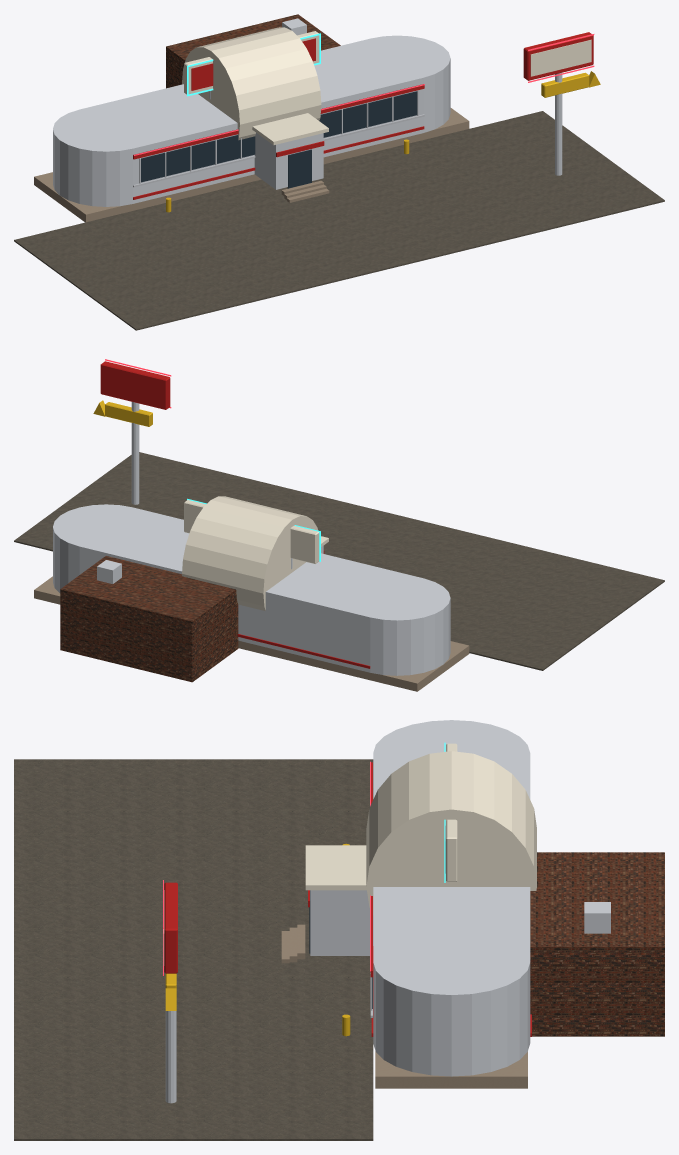
The model's file is OT_Diner_A.glb.
3 views of the same model, one above another, from view 1: azimuth 30°, elevation 25°; view 2: azimuth 150°, elevation 25°; view 3: azimuth 270°, elevation 25° (orthographic). The views are drawn at different scales.
Parts seen in each view (by area): view 1: OT_Diner_A_Pavement, OT_Diner_A_Steel__d4d8de, OT_Diner_A_Cream__f2ead7, OT_Diner_A_Glass__2a3a46, OT_Diner_A_Tile, OT_Diner_A_DinerRed__c3201e, OT_Diner_A_Brick, OT_Diner_A_Frame__c9ccd1, OT_Diner_A_Yellow__e8b81e, OT_Diner_A_NeonRed__ff2d3c; view 2: OT_Diner_A_Pavement, OT_Diner_A_Steel__d4d8de, OT_Diner_A_Brick, OT_Diner_A_Cream__f2ead7, OT_Diner_A_DinerRed__c3201e, OT_Diner_A_Tile, OT_Diner_A_Yellow__e8b81e; view 3: OT_Diner_A_Pavement, OT_Diner_A_Steel__d4d8de, OT_Diner_A_Brick, OT_Diner_A_Cream__f2ead7, OT_Diner_A_Tile, OT_Diner_A_DinerRed__c3201e, OT_Diner_A_Yellow__e8b81e.
Part boxes in pixels (box(x1,y1,x2,y2)): OT_Diner_A_Pavement: box(14, 111, 664, 330); OT_Diner_A_Steel__d4d8de: box(53, 18, 562, 206); OT_Diner_A_Cream__f2ead7: box(182, 27, 591, 145); OT_Diner_A_Glass__2a3a46: box(141, 91, 417, 188); OT_Diner_A_Tile: box(34, 108, 469, 222); OT_Diner_A_DinerRed__c3201e: box(133, 32, 593, 199); OT_Diner_A_Brick: box(166, 14, 340, 88); OT_Diner_A_Frame__c9ccd1: box(133, 90, 424, 187); OT_Diner_A_Yellow__e8b81e: box(166, 71, 600, 212); OT_Diner_A_NeonRed__ff2d3c: box(134, 34, 594, 155); OT_Diner_A_Pavement: box(14, 452, 664, 670); OT_Diner_A_Steel__d4d8de: box(53, 402, 450, 675); OT_Diner_A_Brick: box(60, 556, 238, 682); OT_Diner_A_Cream__f2ead7: box(182, 496, 328, 610); OT_Diner_A_DinerRed__c3201e: box(100, 361, 370, 668); OT_Diner_A_Tile: box(34, 576, 469, 691); OT_Diner_A_Yellow__e8b81e: box(93, 400, 152, 426); OT_Diner_A_Pavement: box(14, 759, 373, 1140); OT_Diner_A_Steel__d4d8de: box(165, 720, 610, 1103); OT_Diner_A_Brick: box(530, 852, 664, 1036); OT_Diner_A_Cream__f2ead7: box(163, 743, 536, 965); OT_Diner_A_Tile: box(281, 924, 527, 1088); OT_Diner_A_DinerRed__c3201e: box(164, 762, 531, 1036); OT_Diner_A_Yellow__e8b81e: box(165, 843, 350, 1036).
Bounding box in the file's own units: 40 × 9.79 × 29.
14 materials, 3 textured.
